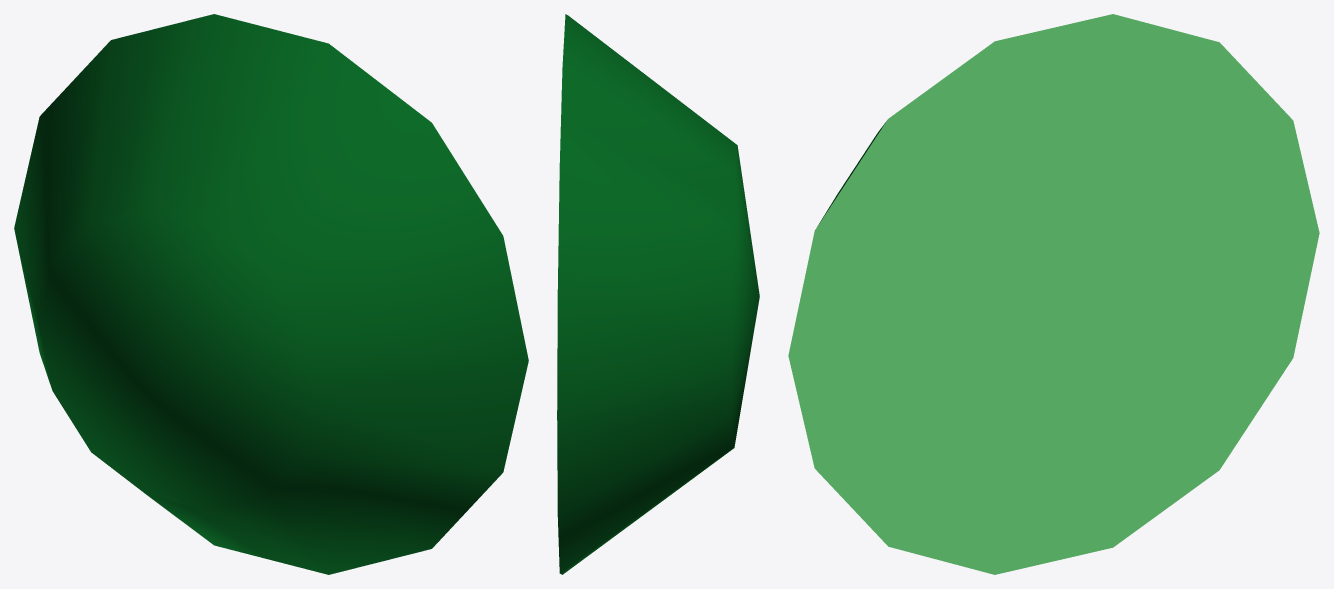
File: mesh_PickleSlice_Stage02.fbx
3 views of the same model, side by side, from view 1: azimuth 30°, elevation 25°; view 2: azimuth 150°, elevation 25°; view 3: azimuth 270°, elevation 25° (orthographic). The views are drawn at different scales.
Visible parts, largest first — view 1: mesh_PickleSlice_Stage02; view 2: mesh_PickleSlice_Stage02; view 3: mesh_PickleSlice_Stage02.
Part boxes in pixels (x1,y1,x2,y2): mesh_PickleSlice_Stage02: (14,14,528,574); mesh_PickleSlice_Stage02: (557,14,759,574); mesh_PickleSlice_Stage02: (788,14,1319,574).
Size of the model in its own units: 0.0149 by 0.023 by 0.0207.
